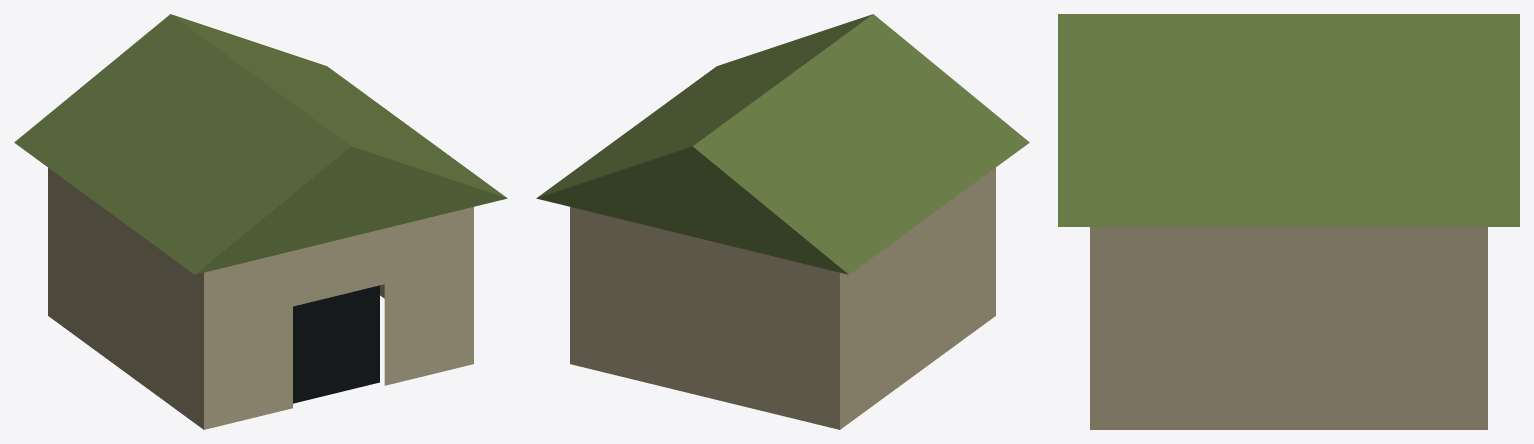
Rendered from house.obj.
The picture shows the model from 3 angles, left to right: view 1: azimuth 30°, elevation 25°; view 2: azimuth 150°, elevation 25°; view 3: azimuth 270°, elevation 25°; orthographic projection. The views are drawn at different scales.
Visible parts, largest first — view 1: prototype_house; view 2: prototype_house; view 3: prototype_house.
Boxes of the visible parts, x1,y1,x2,y2 form: prototype_house: (14,14,507,429); prototype_house: (536,14,1029,429); prototype_house: (1058,14,1519,429).
Size of the model in its own units: 1.16 by 0.92 by 1.16.
